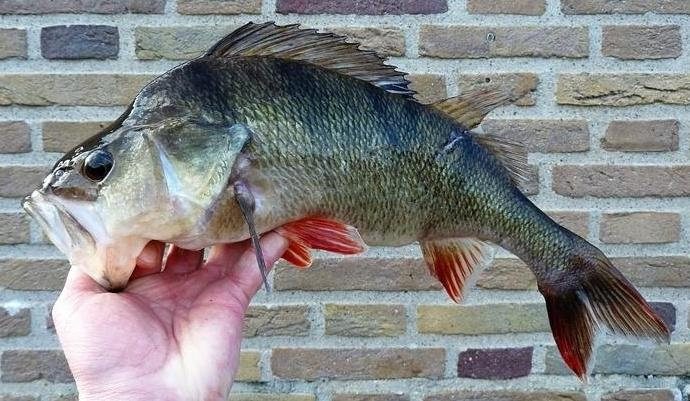Perch: (19, 17, 670, 384)
